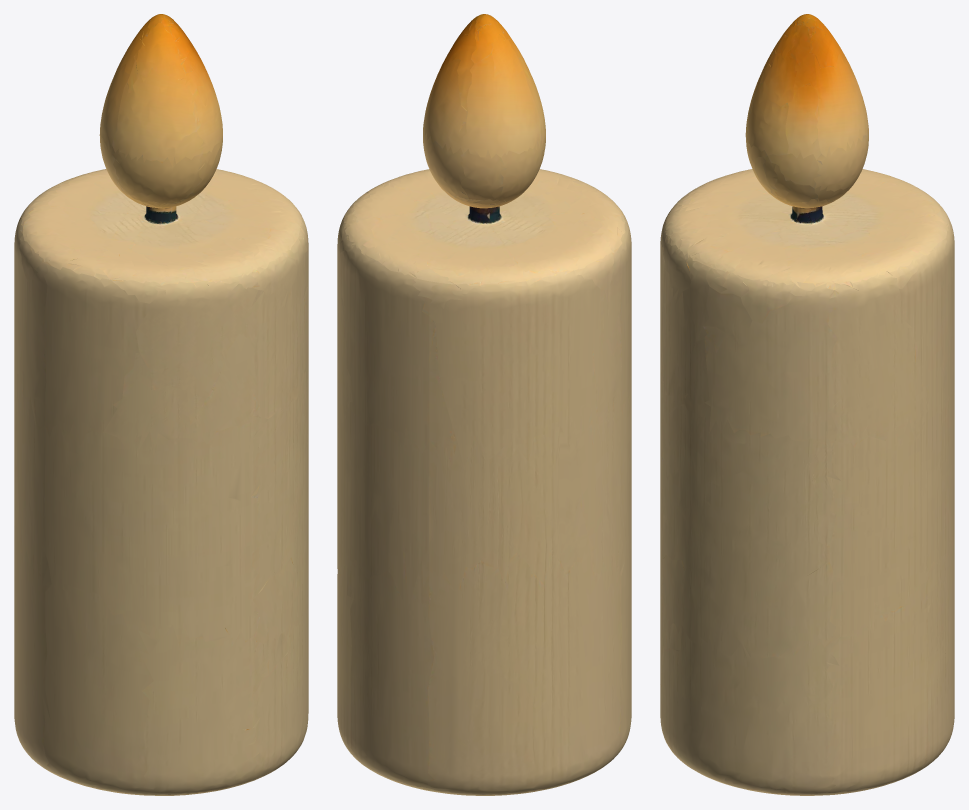
File: candle.glb
3 views of the same model, side by side, from view 1: azimuth 30°, elevation 25°; view 2: azimuth 150°, elevation 25°; view 3: azimuth 270°, elevation 25° (orthographic).
Bounding box in the file's own units: 0.6984 × 1.9 × 0.697.
1 material, 1 textured.
